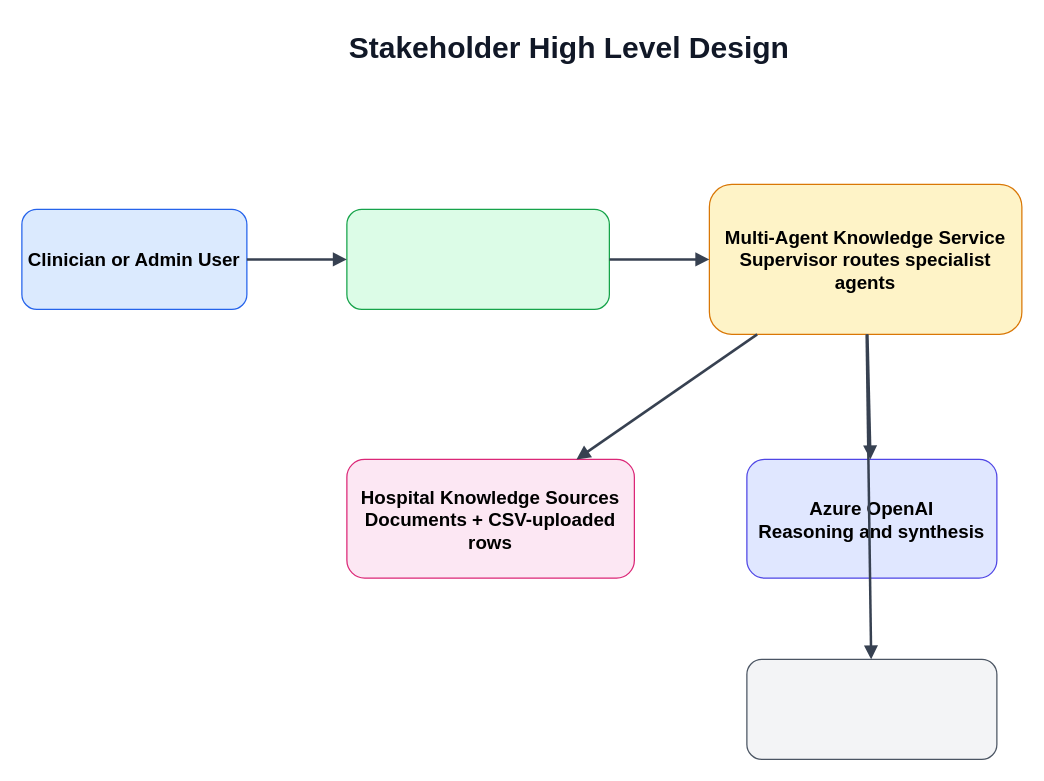
The diagram is 1044 pixels wide and 781 high, and some of its shapes have lost their labels. The shapes that lost their labels are listed below. From the top down, each one's centre as x and y in pixels, then its label:
the point at 477,258: Healthcare Knowledge Chat UI
the point at 871,708: Tracing, History, Evaluation
